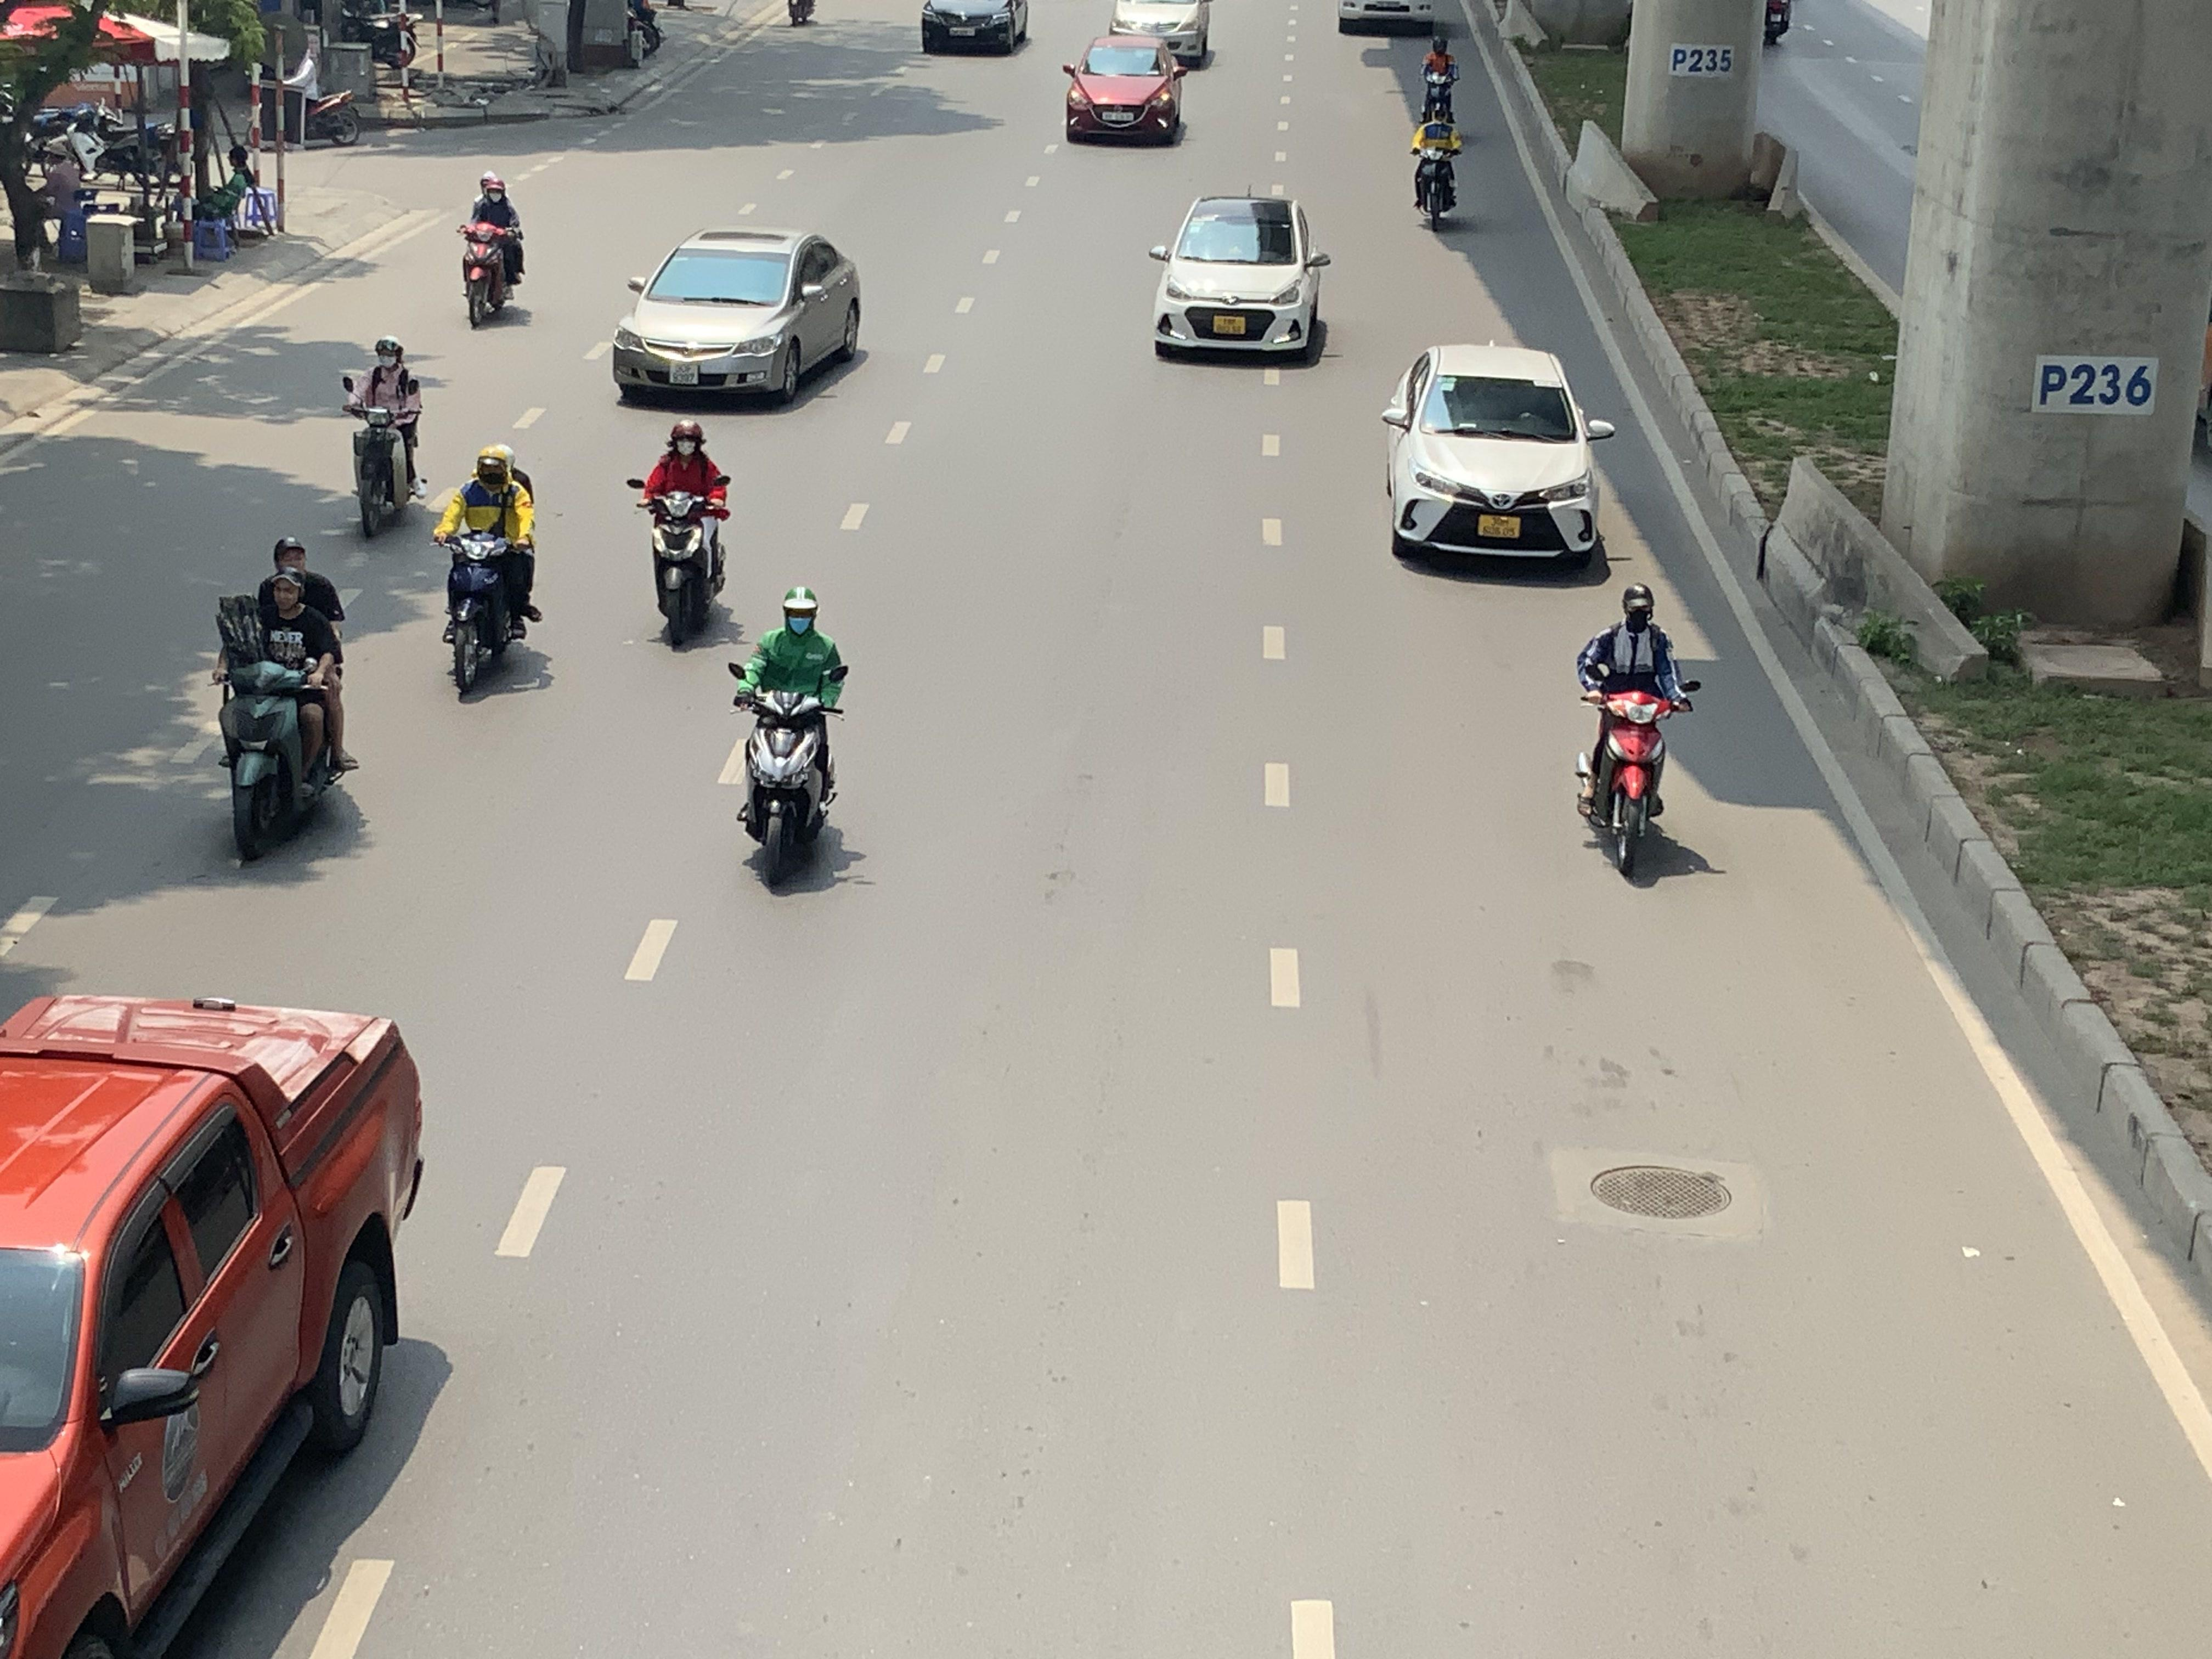BSV: (1477, 514, 1522, 540), (669, 362, 700, 383), (1212, 315, 1245, 335)
car: (0, 992, 427, 1657), (1379, 343, 1616, 575), (611, 228, 866, 408), (1148, 192, 1331, 366), (1061, 35, 1186, 148), (1108, 0, 1216, 70)
motorbike: (211, 563, 354, 866), (730, 586, 846, 894), (1575, 584, 1691, 884), (434, 444, 538, 702), (631, 418, 732, 652), (343, 336, 428, 540), (460, 174, 526, 329), (1411, 103, 1463, 228), (1420, 37, 1460, 124)
